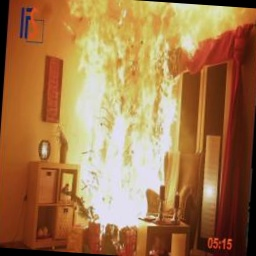fire: (44, 0, 210, 237)
